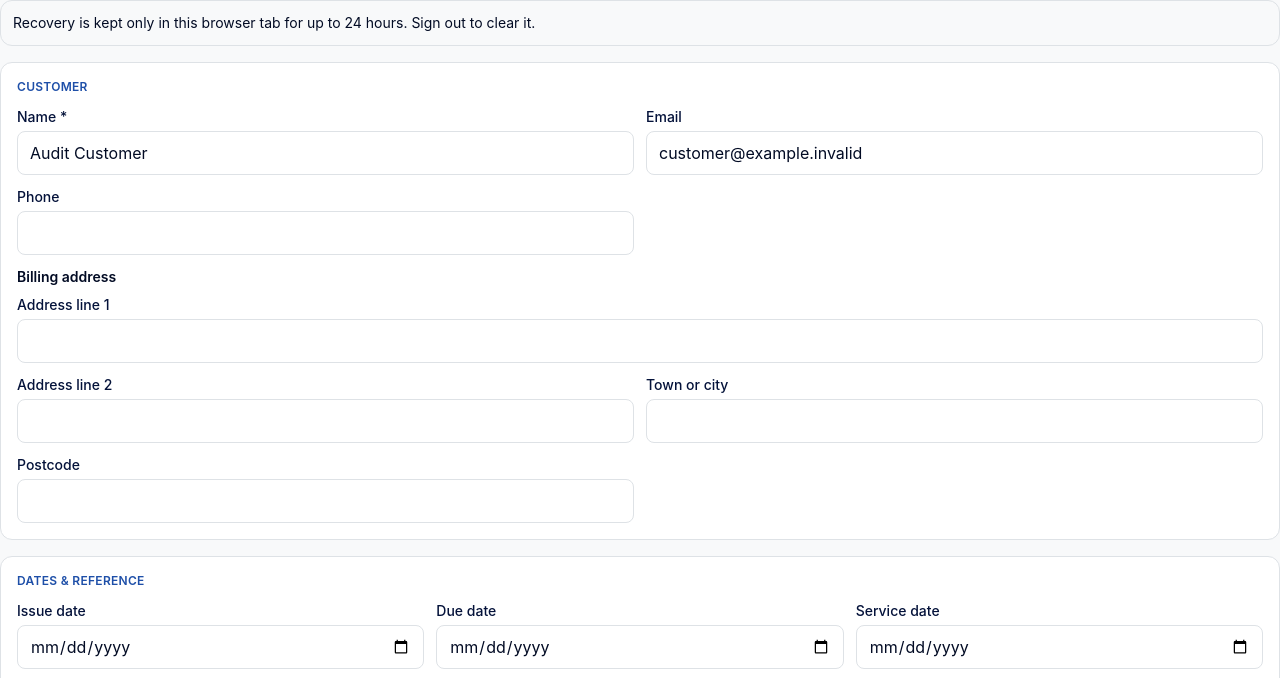
invoice draft recovery › clears on explicit discard but cancellation keeps the work
Replace the text in the field labelled "Name *" with "Temporary changes". click: (326,153)
box: 17,131 -> 634,175
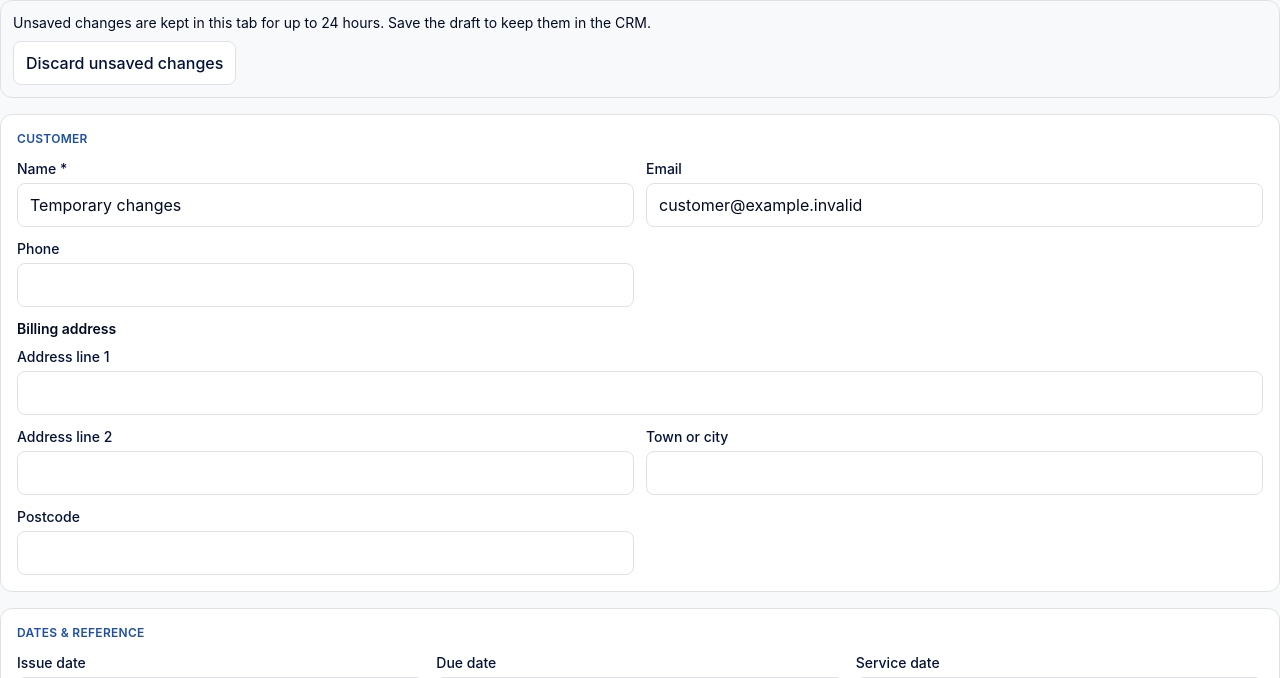
Click the button "Discard unsaved changes". click: (125,63)
box: 13,41 -> 236,85
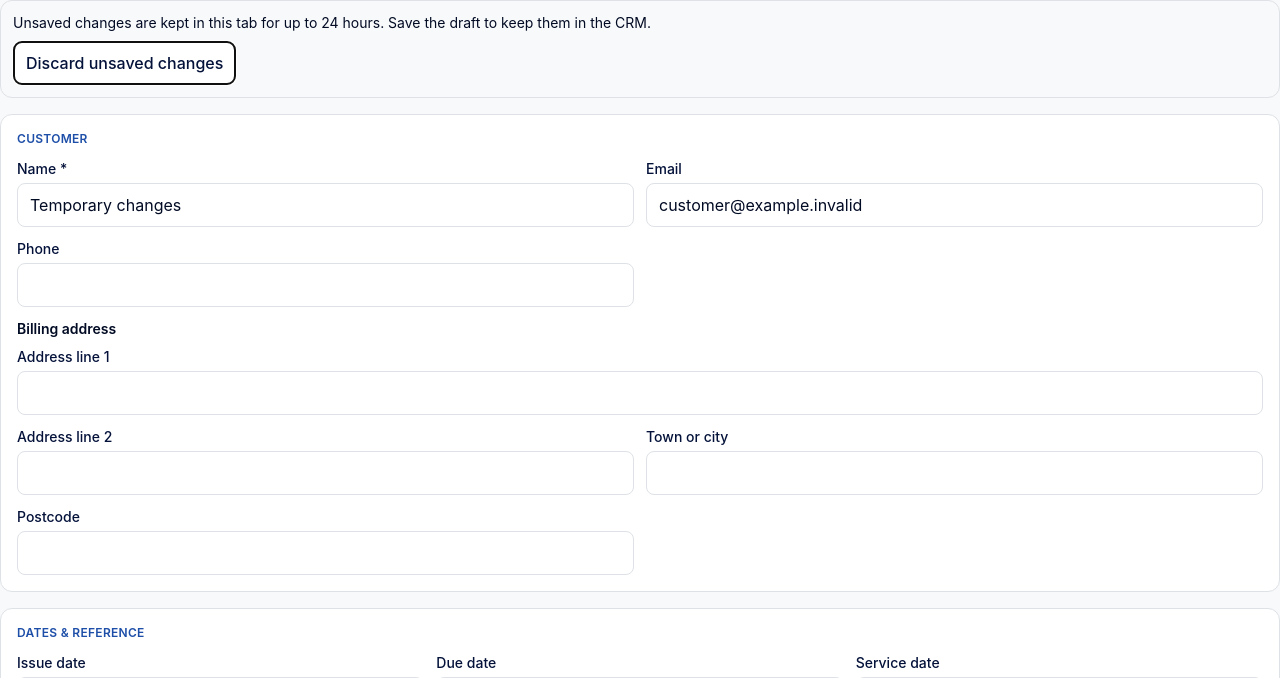
Click the button "Discard unsaved changes". click: (125,63)
box: 13,41 -> 236,85
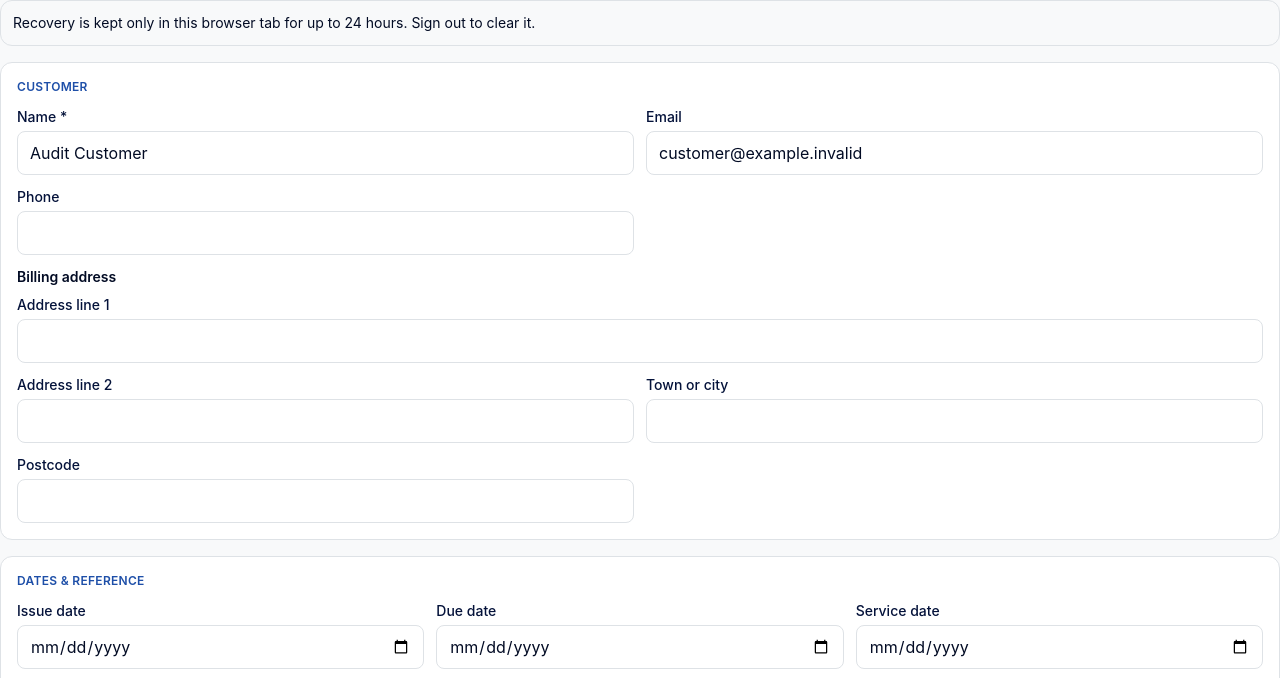
Expected: the field labelled "Name *" holds "Audit Customer", 17,131 -> 634,175
